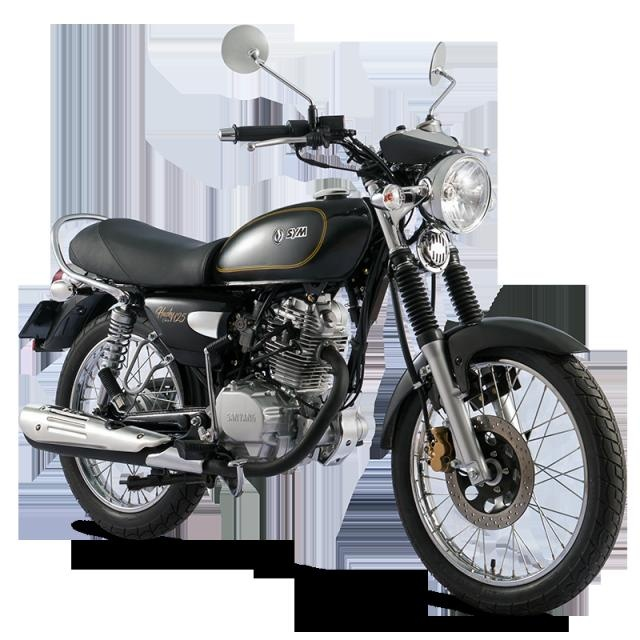Motorcycle: (14, 14, 640, 618)
